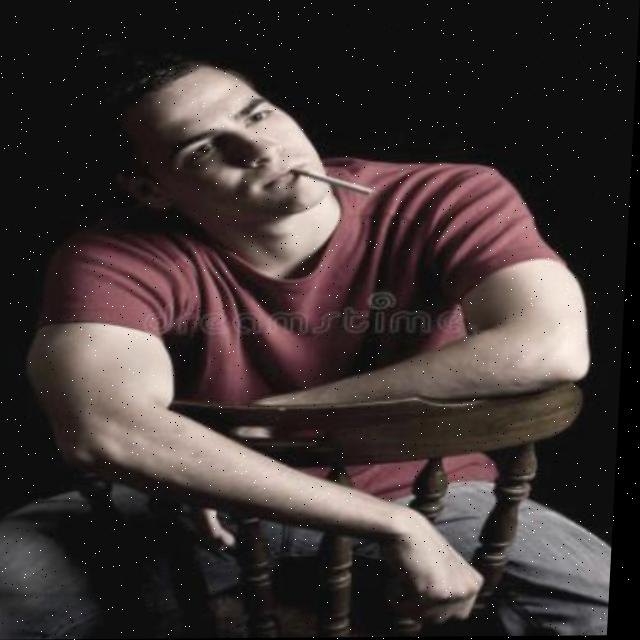cigarette: (295, 169, 378, 197)
